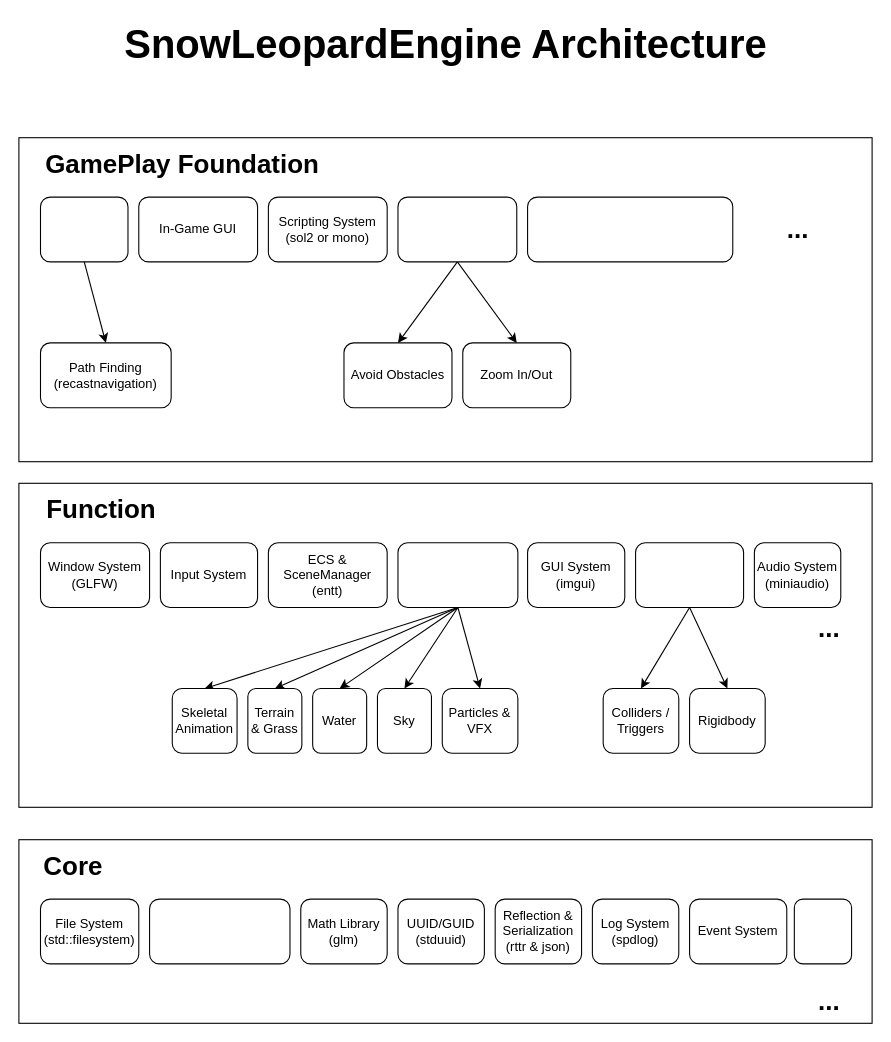
This 891x1042 diagram has some shape labels left out. Here are the shapes that lost their labels. From the top down, the centre of each, then its label:
At point (83, 229): "AI System".
At point (457, 229): "Built-in Advanced Camera System".
At point (629, 229): "Large World Loading / Streaming".
At point (457, 575): "Rendering System (glad)".
At point (689, 575): "Physics System (PhysX 5)".
At point (219, 931): "Threadsafe Containers".
At point (822, 931): "Timer".
